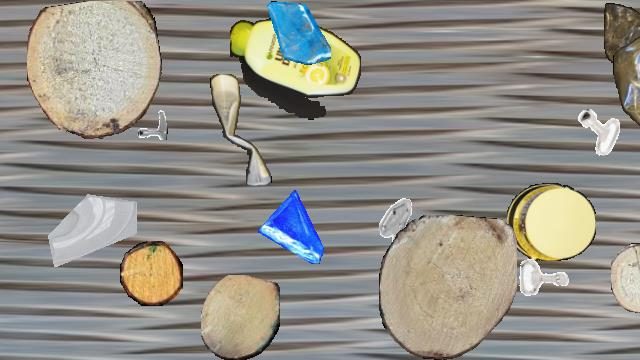glass: (44, 174, 136, 266), (258, 190, 332, 264), (267, 1, 331, 65)
metal: (513, 247, 575, 309), (365, 196, 425, 256), (575, 107, 623, 155), (126, 98, 168, 140), (624, 199, 640, 249)
plastic: (230, 18, 360, 120), (210, 74, 272, 186), (507, 183, 595, 261), (613, 1, 640, 213), (604, 1, 640, 71)
wood: (379, 215, 517, 359), (27, 1, 161, 139), (201, 275, 279, 359), (120, 241, 182, 305), (611, 243, 640, 313)
